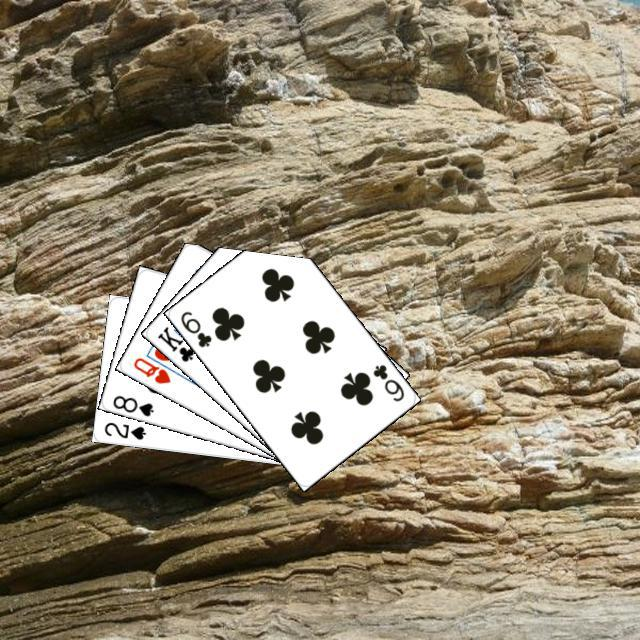2s: (99, 417, 147, 441)
6c: (368, 359, 406, 403), (175, 306, 213, 349)
8s: (108, 390, 155, 418)
Kc: (152, 321, 204, 364)
Qh: (128, 352, 173, 386)
